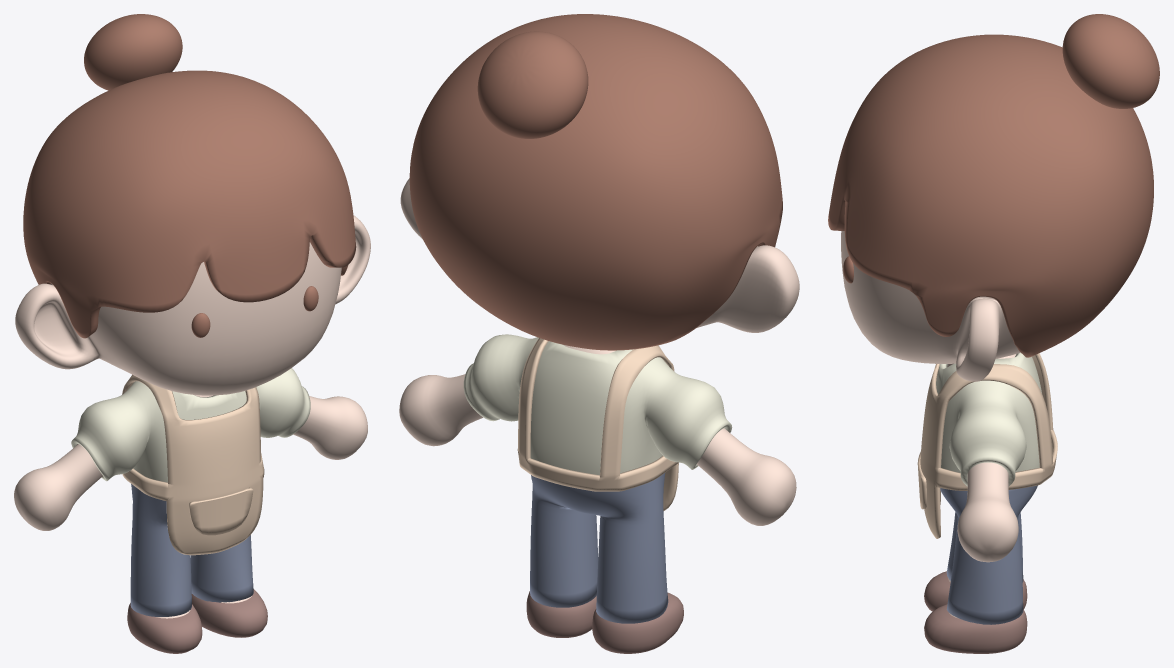
The model's file is 240908_character_Yuna_1.fbx.
3 views of the same model, side by side, from view 1: azimuth 30°, elevation 25°; view 2: azimuth 150°, elevation 25°; view 3: azimuth 270°, elevation 25° (orthographic). The views are drawn at different scales.
Parts seen in each view (by area): view 1: Hair, Head, Apron, T, Pants, Body, Hair_2, Body_001, Apron_2, Eye; view 2: Hair, T, Pants, Body, Hair_2, Apron, Head, Body_001; view 3: Hair, Head, T, Apron, Hair_2, Pants, Body, Body_001.
Part boxes in pixels (box(x1,y1,x2,y2)): Hair: box(23, 70, 356, 338); Head: box(15, 215, 370, 395); Apron: box(122, 374, 264, 555); T: box(71, 368, 310, 482); Pants: box(130, 484, 253, 616); Body: box(14, 395, 367, 618); Hair_2: box(84, 14, 182, 90); Body_001: box(127, 589, 267, 653); Apron_2: box(189, 487, 253, 535); Eye: box(191, 286, 318, 337); Hair: box(409, 14, 782, 350); T: box(463, 334, 732, 475); Pants: box(530, 473, 668, 623); Body: box(399, 345, 796, 525); Hair_2: box(477, 31, 588, 138); Apron: box(517, 338, 678, 510); Head: box(400, 178, 799, 332); Body_001: box(526, 591, 683, 653); Hair: box(828, 34, 1153, 357); Head: box(841, 231, 1020, 381); T: box(936, 352, 1041, 486); Apron: box(920, 353, 1057, 538); Hair_2: box(1062, 14, 1159, 108); Pants: box(940, 485, 1037, 624); Body: box(947, 354, 1018, 618); Body_001: box(924, 571, 1027, 653).
Bounding box in the file's own units: 187 × 292 × 144.
